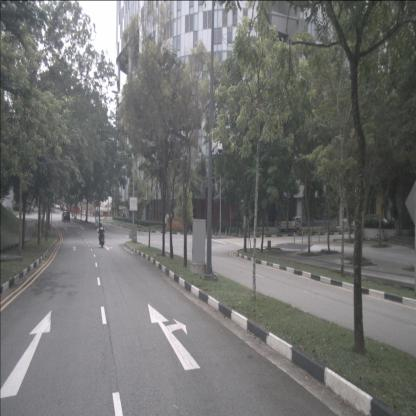vehicle-bicycle: (375, 229, 388, 243)
vehicle-car: (62, 211, 70, 222), (62, 205, 70, 212)
vehicle-motorcycle: (97, 221, 106, 248)
vehicle-truck: (277, 216, 302, 234)
